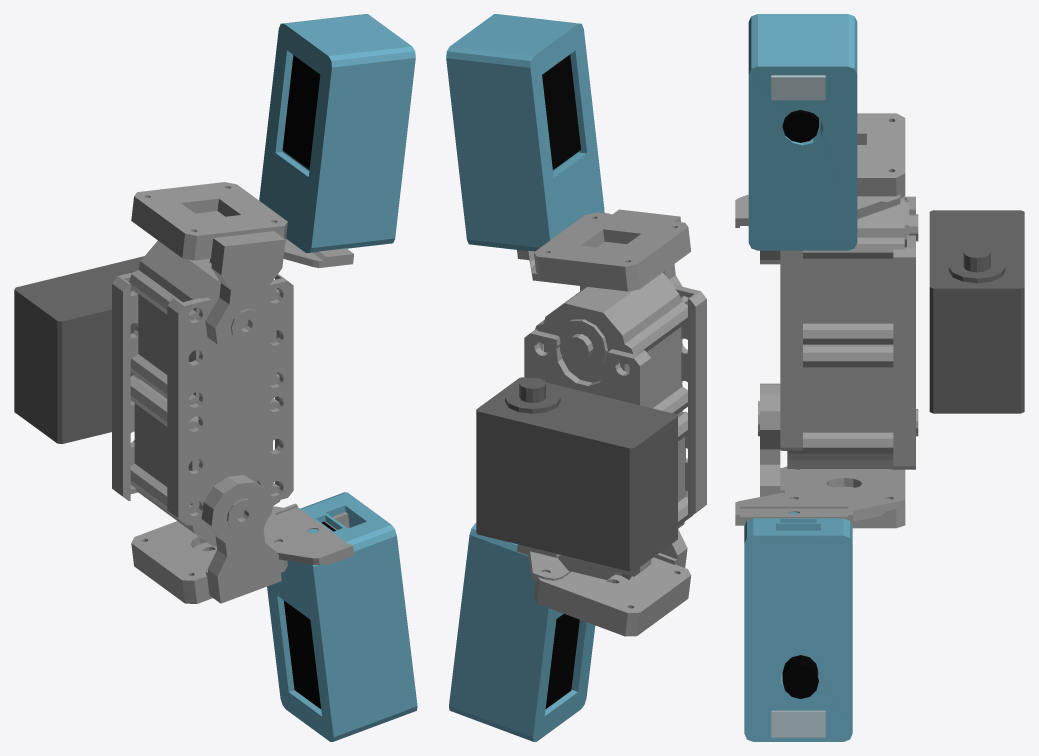
Rendered from head-neck-p.glb.
The picture shows the model from 3 angles, left to right: view 1: azimuth 30°, elevation 25°; view 2: azimuth 150°, elevation 25°; view 3: azimuth 270°, elevation 25°; orthographic projection.
Size of the model in its own units: 0.0705 by 0.1702 by 0.064.
